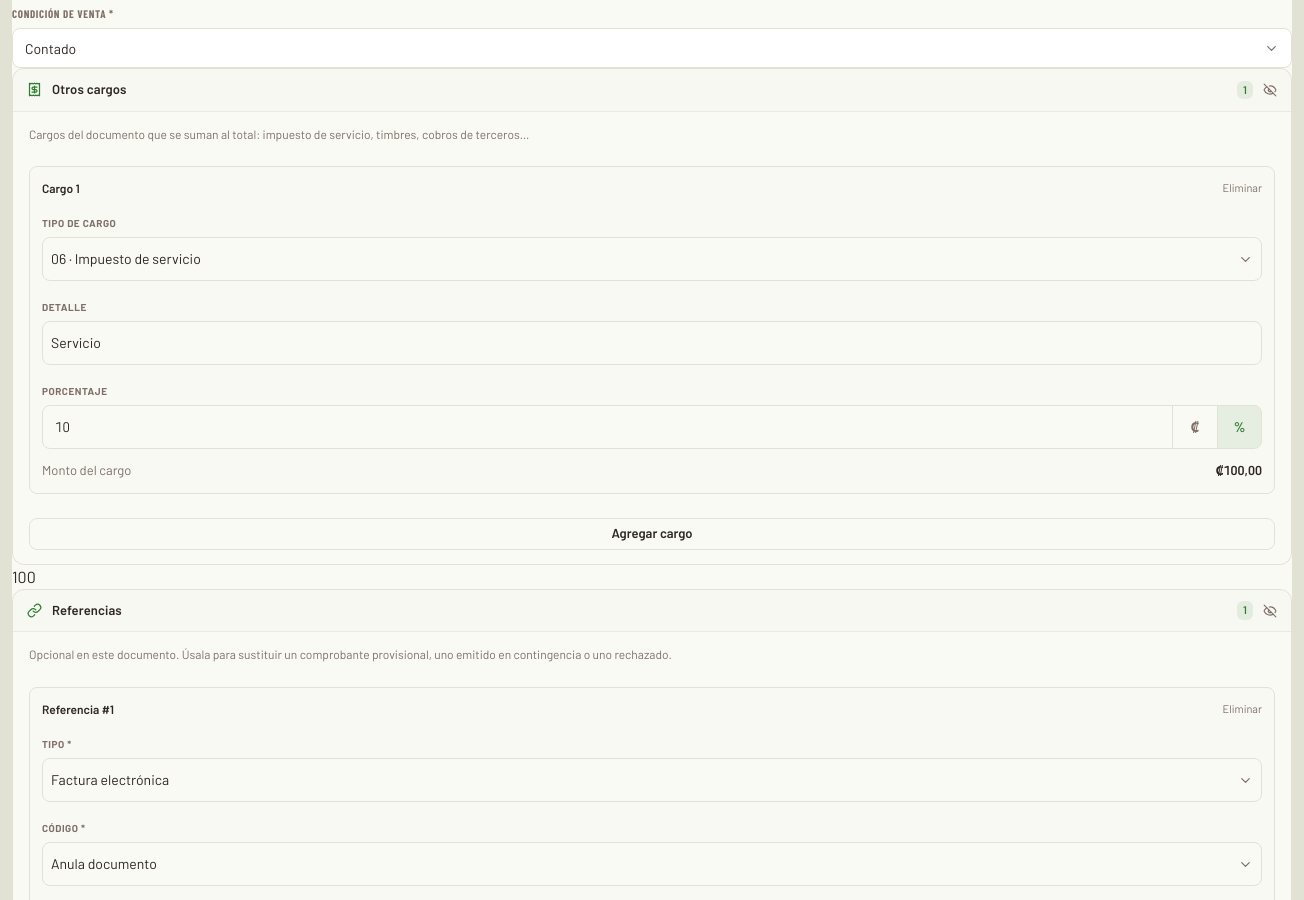
Test case: order billing catalogs › preserves the charge when switching between percentage and fixed amount
This screenshot has width=1304, height=900.
Expected: the text "06 · Impuesto de servicio" is shown, [51,249,201,269]
Expected: the text with test id "charge-amount" reads "100", [12,567,36,586]
Click the button named "Monto fijo" at [1195, 427], box [1173,406,1217,448]
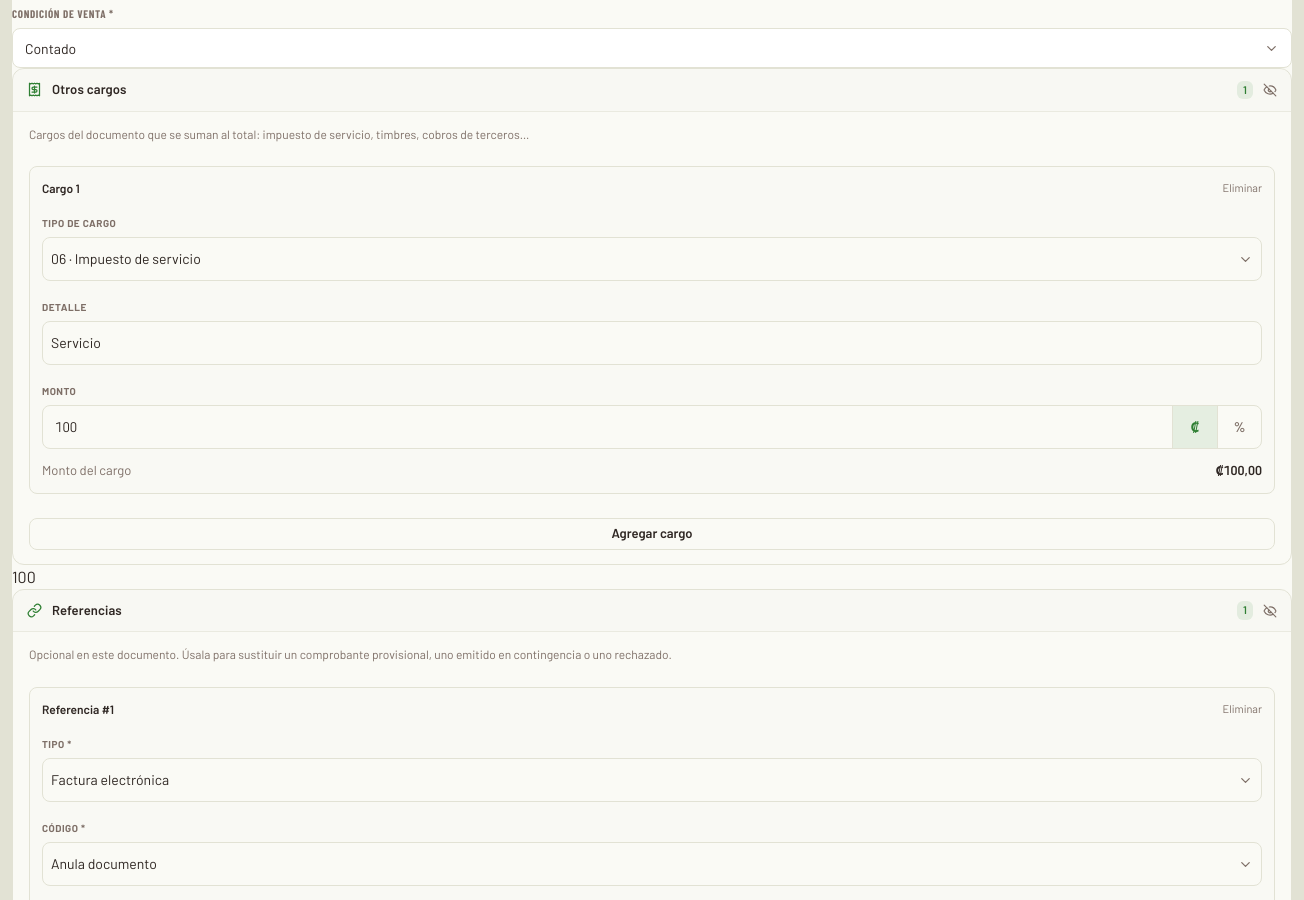
Expected: the text with test id "charge-amount" reads "100", [12,567,36,586]
Expected: the number field labelled "Monto" holds "100"
Replace the text in the number field labelled "Monto" with "250" at [608, 427], box [43,406,1172,448]
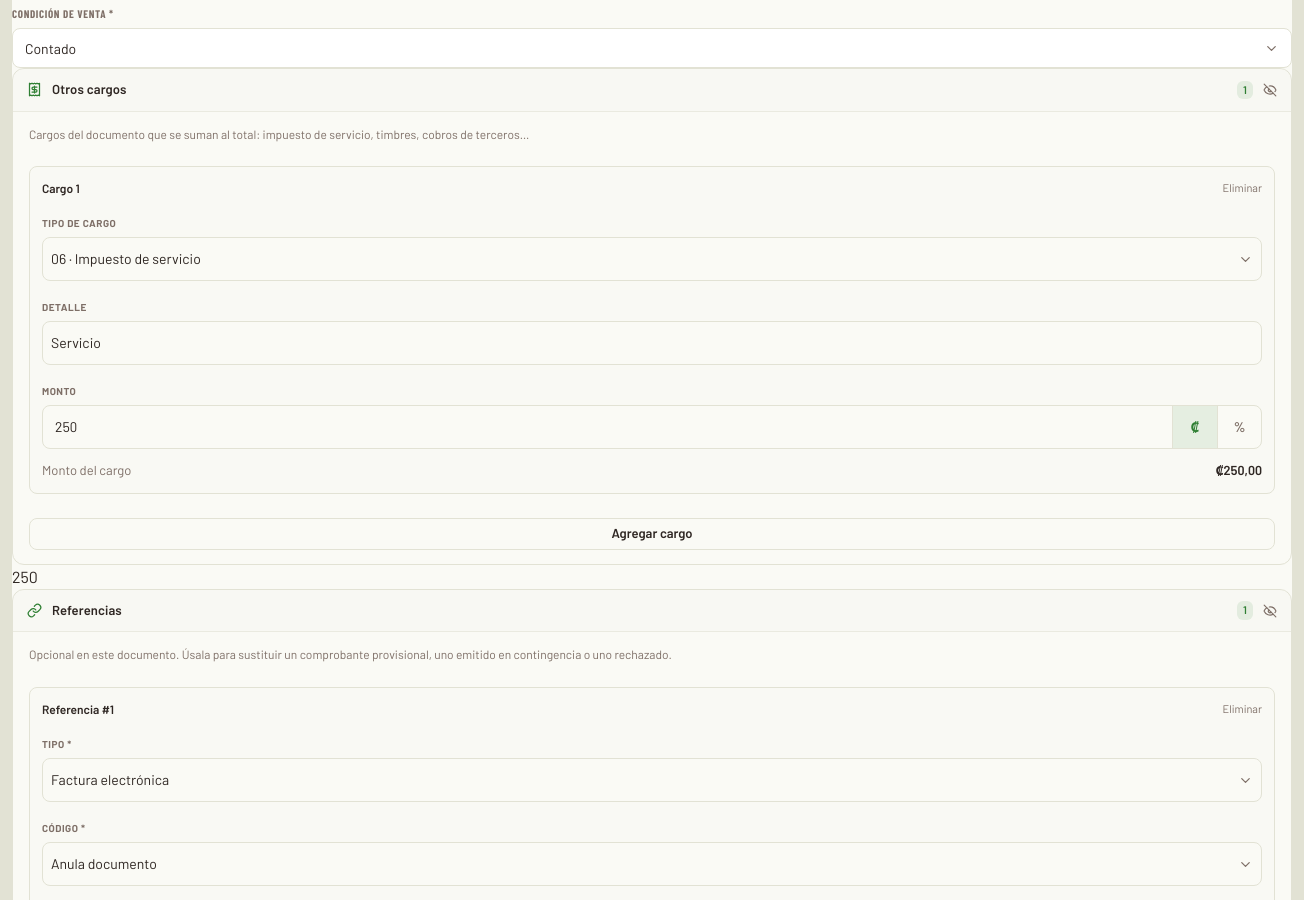
Click the button named "Porcentaje del subtotal" at [1239, 427], box [1217,406,1261,448]
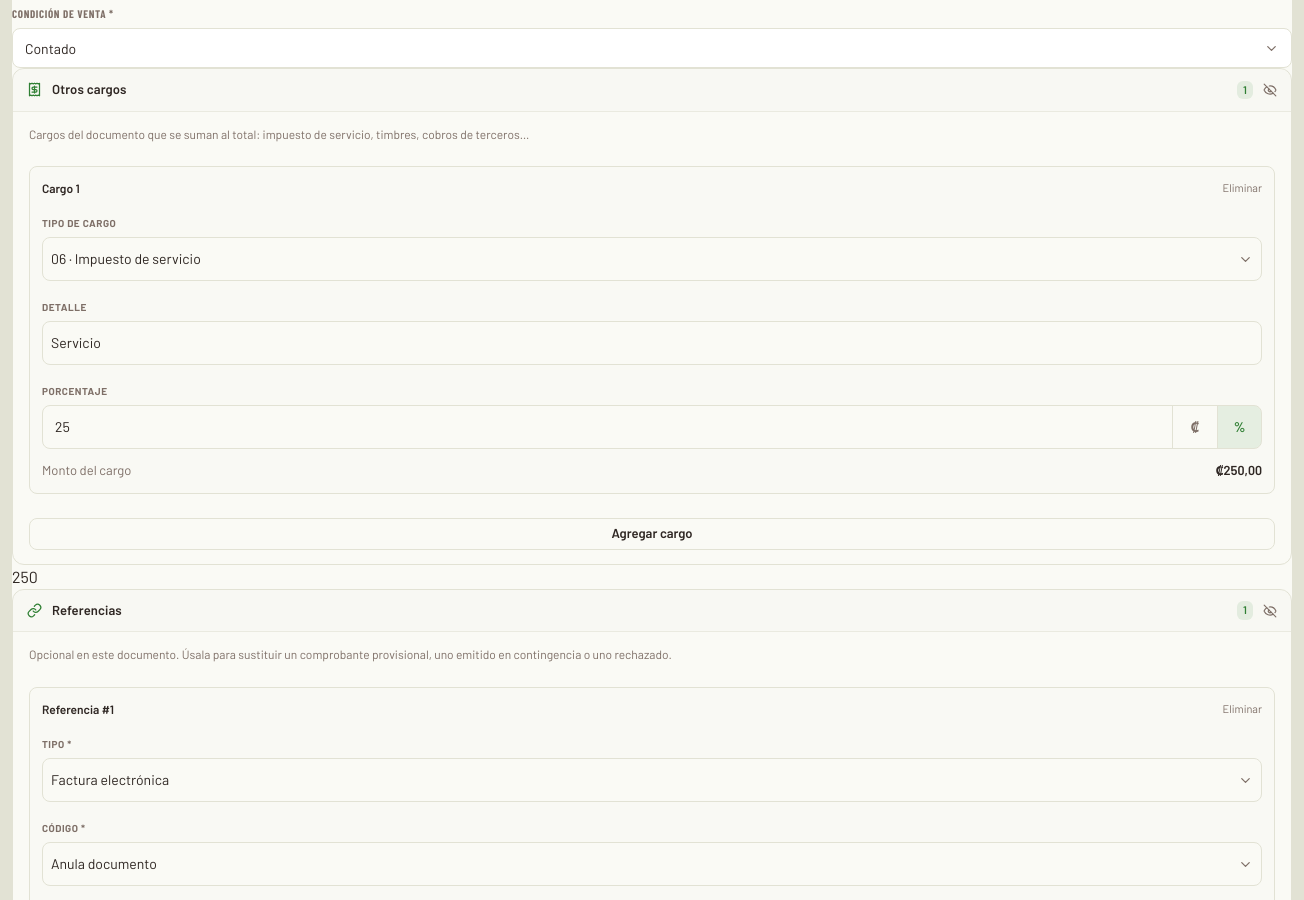
Expected: the text with test id "charge-amount" reads "250", [12,567,38,586]
Expected: the number field labelled "Porcentaje" holds "25", [43,406,1172,448]
